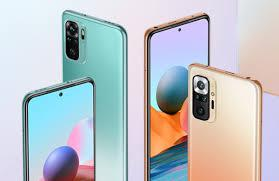Smartphone: (60, 11, 130, 181), (144, 13, 214, 181), (186, 64, 264, 181), (18, 79, 98, 181)
